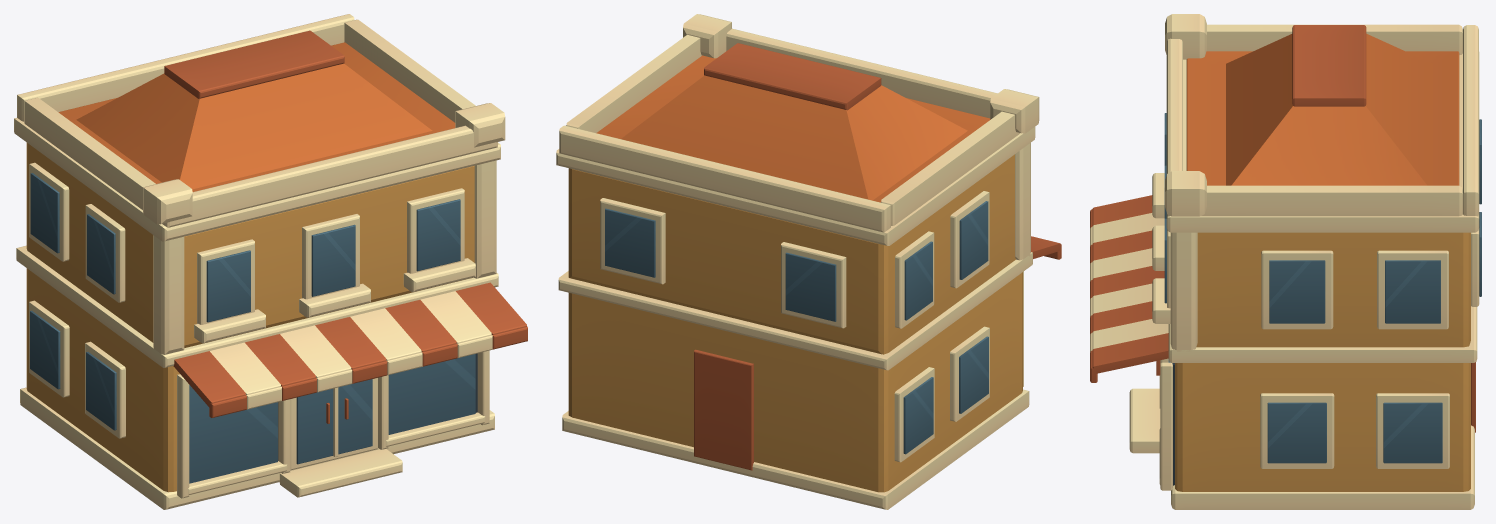
The model's file is 03B-market-threejs.glb.
3 renders of one model, left to right at view 1: azimuth 30°, elevation 25°; view 2: azimuth 150°, elevation 25°; view 3: azimuth 270°, elevation 25°, orthographic. The views are drawn at different scales.
Visible parts, largest first — view 1: 03B / trim, 03B / wall, 03B / glass, 03B / roof, 03B / accent; view 2: 03B / wall, 03B / trim, 03B / roof, 03B / accent, 03B / glass; view 3: 03B / trim, 03B / wall, 03B / roof, 03B / glass, 03B / accent.
Part boxes in pixels (x1=…): 03B / trim: x1=14, y1=14, x2=505, y2=509; 03B / wall: x1=26, y1=142, x2=474, y2=492; 03B / glass: x1=30, y1=173, x2=475, y2=483; 03B / roof: x1=58, y1=42, x2=455, y2=191; 03B / accent: x1=164, y1=30, x2=527, y2=423; 03B / wall: x1=568, y1=154, x2=1022, y2=492; 03B / trim: x1=556, y1=14, x2=1039, y2=509; 03B / roof: x1=596, y1=55, x2=990, y2=202; 03B / accent: x1=694, y1=43, x2=1061, y2=470; 03B / glass: x1=605, y1=201, x2=988, y2=454; 03B / trim: x1=1090, y1=14, x2=1479, y2=509; 03B / wall: x1=1175, y1=232, x2=1470, y2=491; 03B / roof: x1=1186, y1=33, x2=1459, y2=185; 03B / glass: x1=1164, y1=113, x2=1481, y2=463; 03B / accent: x1=1090, y1=25, x2=1475, y2=432.
Bounding box in the file's own units: 6.43 × 6.26 × 6.09.
Materials: 6 (6 with a texture image).
